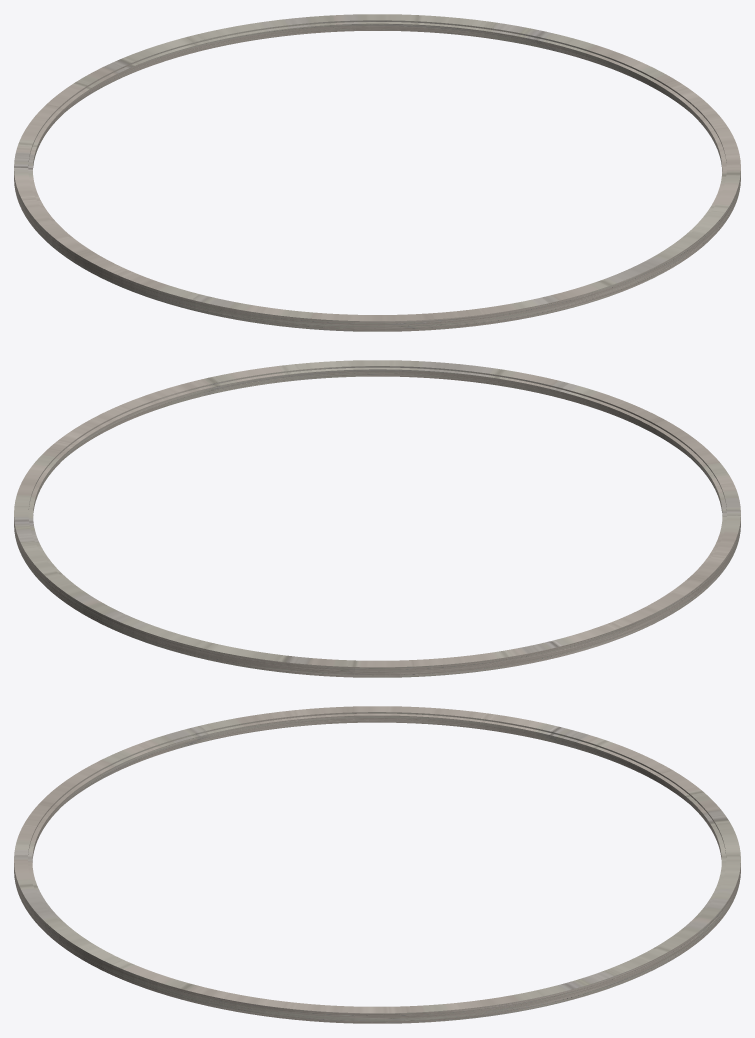
File: Environment_MarbleLoop_White.glb
The picture shows the model from 3 angles, top to bottom: view 1: azimuth 30°, elevation 25°; view 2: azimuth 150°, elevation 25°; view 3: azimuth 270°, elevation 25°; orthographic projection.
Parts seen in each view (by area): view 1: Cylinder.008, Cylinder.009; view 2: Cylinder.008, Cylinder.009; view 3: Cylinder.008, Cylinder.009.
Boxes of the visible parts, x1=… form: Cylinder.008: x1=14, y1=14, x2=740, y2=331; Cylinder.009: x1=28, y1=22, x2=726, y2=315; Cylinder.008: x1=14, y1=360, x2=740, y2=677; Cylinder.009: x1=28, y1=367, x2=726, y2=661; Cylinder.008: x1=14, y1=706, x2=740, y2=1023; Cylinder.009: x1=28, y1=713, x2=726, y2=1007.
Size of the model in its own units: 77.07 by 1.23 by 77.08.
2 materials, 2 textured.
